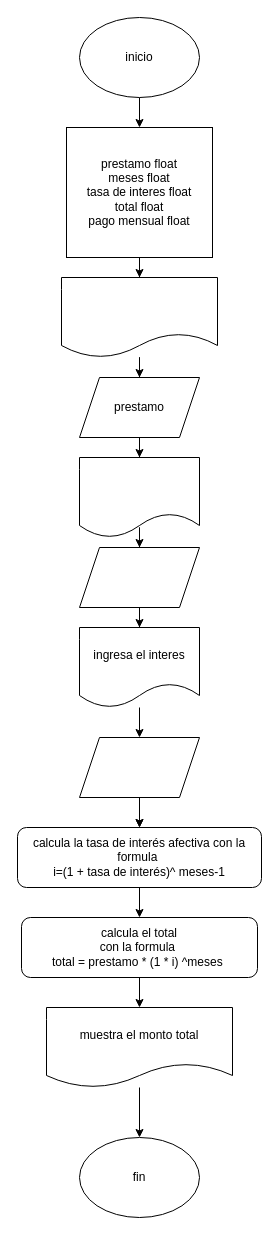
Some shapes in this 279 by 1235 pixel diagram are drawn without their labels. Here are the shapes that lost their labels. From the top down, the centre of each, then its label:
At (139,317): "ingresa el monto del prestamo".
At (139,497): "ingresa la cantidad de meses".
At (139,577): "meses".
At (139,767): "interes".
